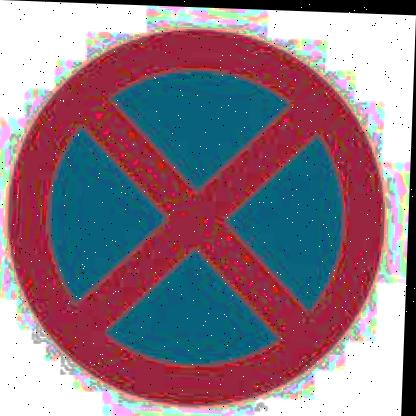No stopping: (1, 19, 392, 413)
